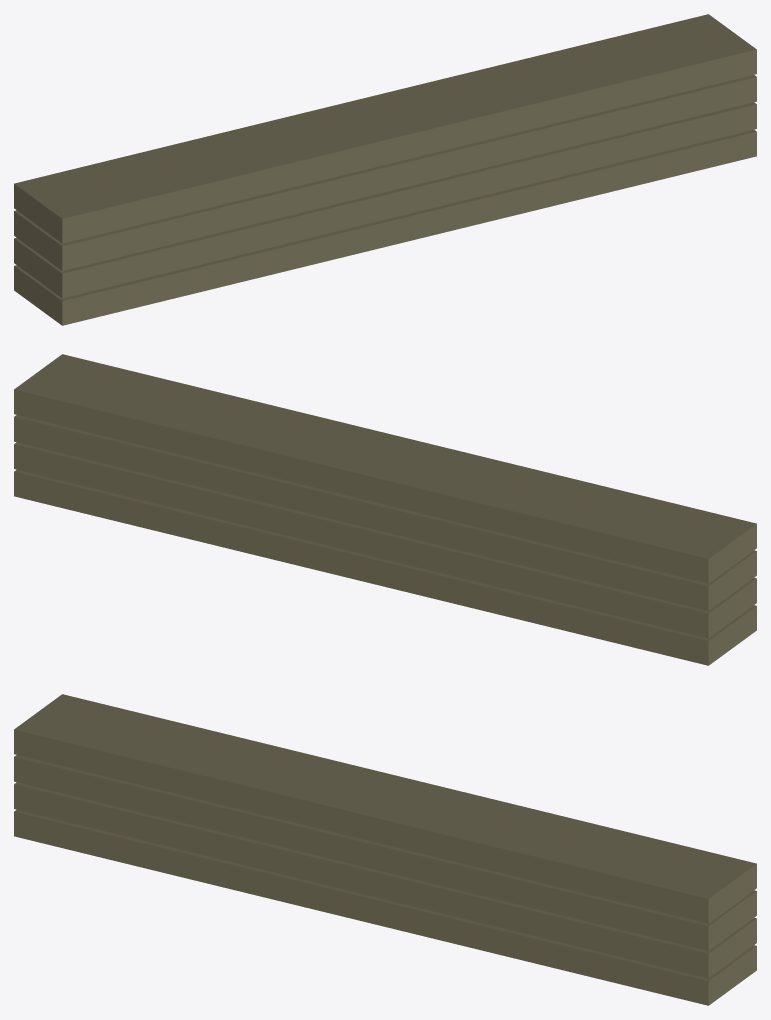
The model's file is SM_MuroSacos_v0_Recto_e0_Sano_LOD1.fbx.
3 views of the same model, one above another, from view 1: azimuth 30°, elevation 25°; view 2: azimuth 150°, elevation 25°; view 3: azimuth 330°, elevation 25° (orthographic).
Visible parts, largest first — view 1: SM_bloques.muro_sacos_estados_v0_LOD1; view 2: SM_bloques.muro_sacos_estados_v0_LOD1; view 3: SM_bloques.muro_sacos_estados_v0_LOD1.
Part boxes in pixels (x1,y1,x2,y2): SM_bloques.muro_sacos_estados_v0_LOD1: (14, 14, 756, 325); SM_bloques.muro_sacos_estados_v0_LOD1: (14, 354, 756, 665); SM_bloques.muro_sacos_estados_v0_LOD1: (14, 694, 756, 1005).
Bounding box in the file's own units: 7.96 × 1.17 × 0.96.
